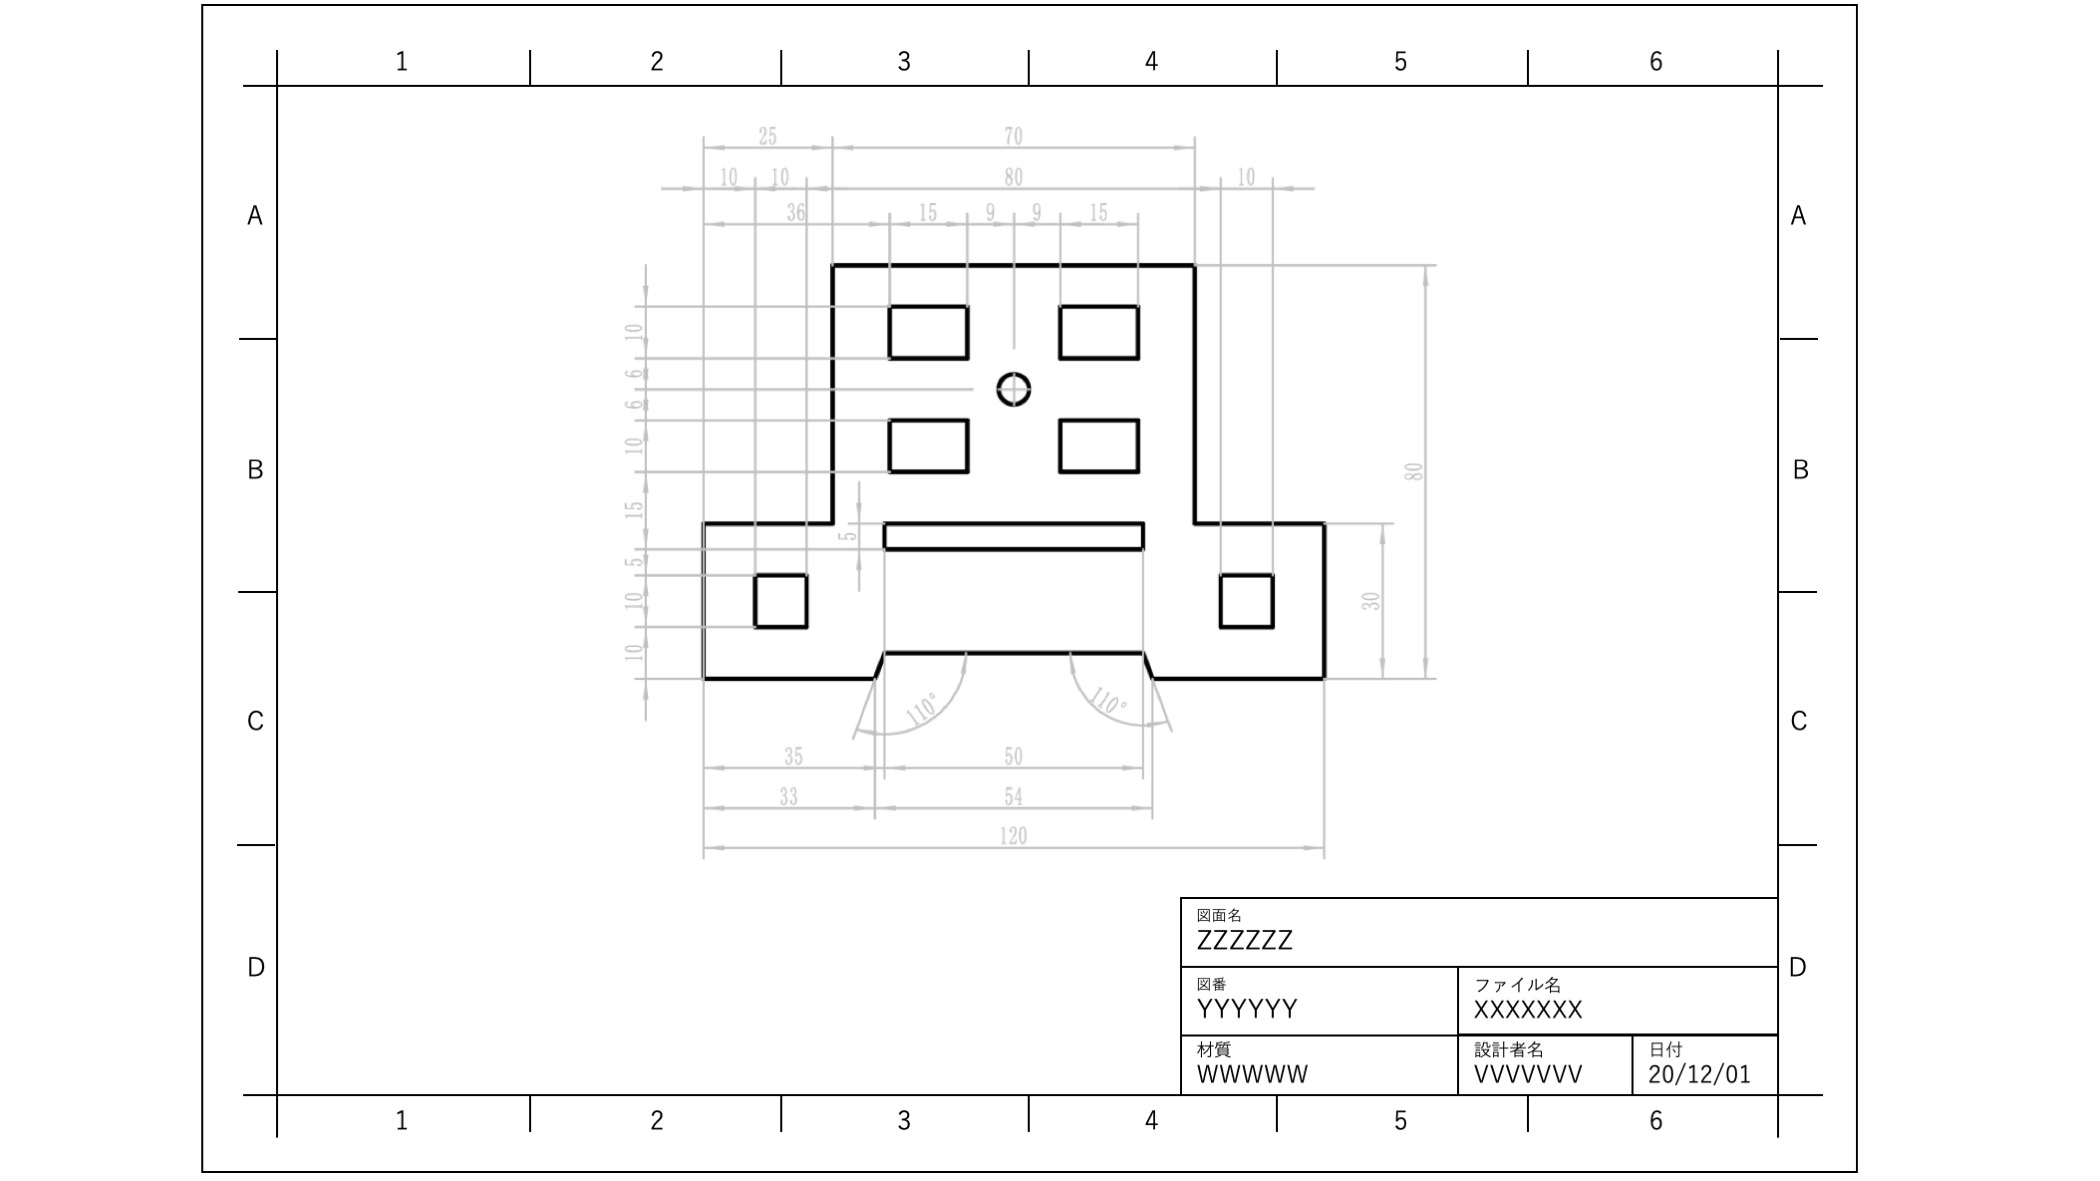circle: (992, 363, 1034, 408)
rectangle: (875, 510, 1148, 558), (1051, 402, 1147, 486), (873, 294, 979, 368), (1037, 297, 1155, 363), (883, 408, 981, 479), (1206, 565, 1279, 642), (746, 565, 821, 639)
